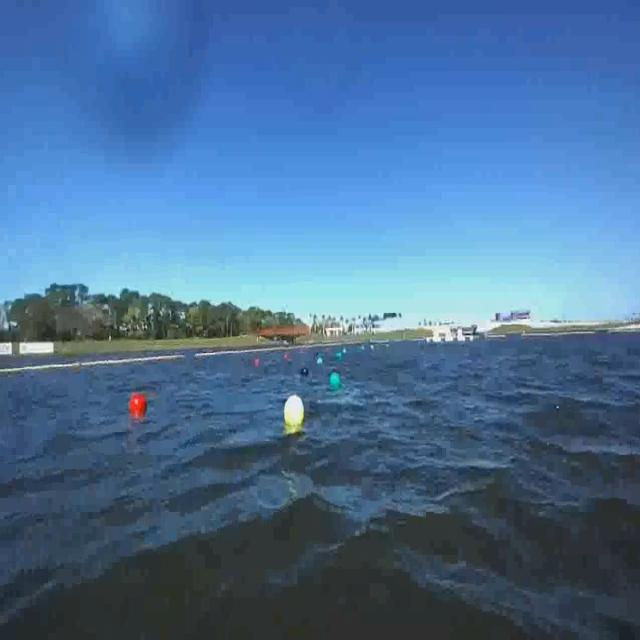black-buoy: (302, 366, 310, 376)
green-buoy: (329, 372, 341, 391)
red-buoy: (131, 394, 148, 418)
yellow-buoy: (284, 398, 304, 429)
